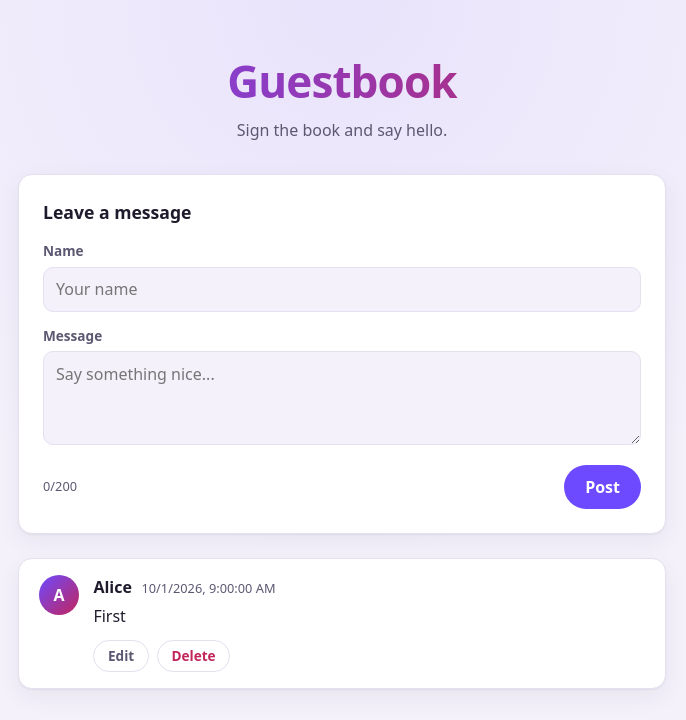
Test: App › adds a posted message to the top of the list
The width and height of the screenshot is (686, 720).
Check: the text "First" is shown, box 93,605 -> 126,627
Type "Bob" into the field labelled "Name".
click(342, 289); type("Bob")  # box 43,267 -> 641,312
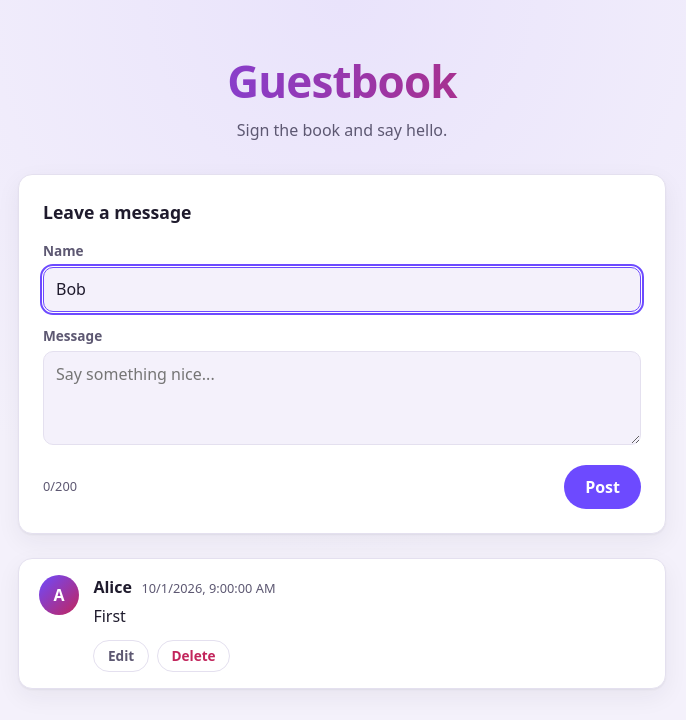
Type "Second" into the text box labelled "Message".
click(342, 398); type("Second")  # box 43,351 -> 641,444
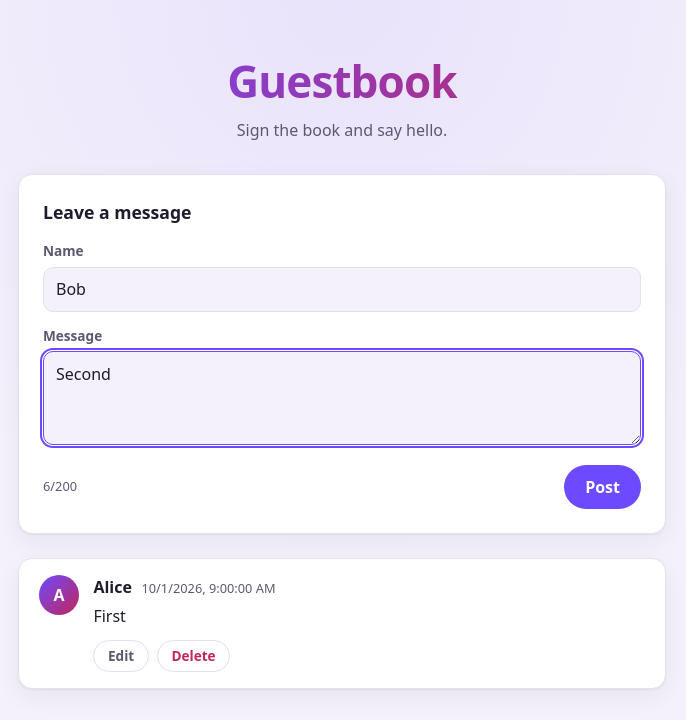
Click the button "Post".
click(603, 487)  # box 564,465 -> 641,508
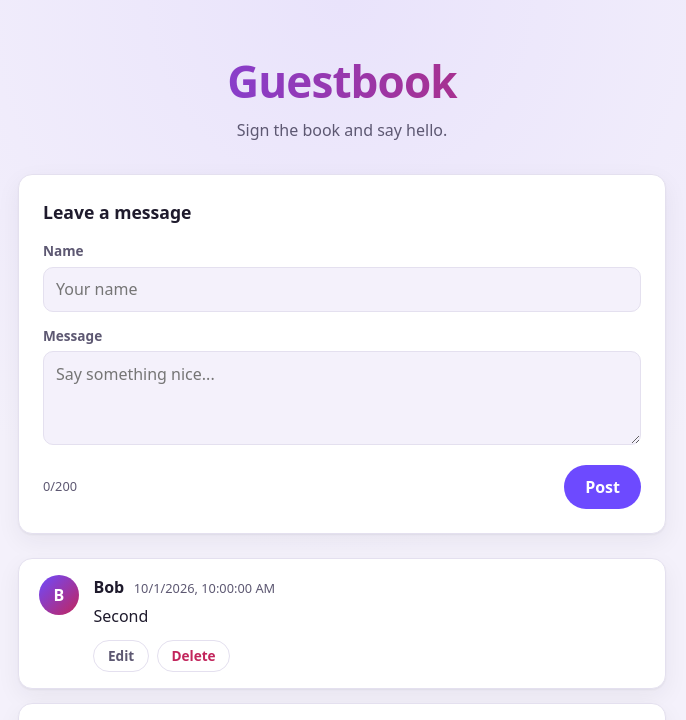
Check: the text "Second" is shown, box 93,605 -> 148,627
